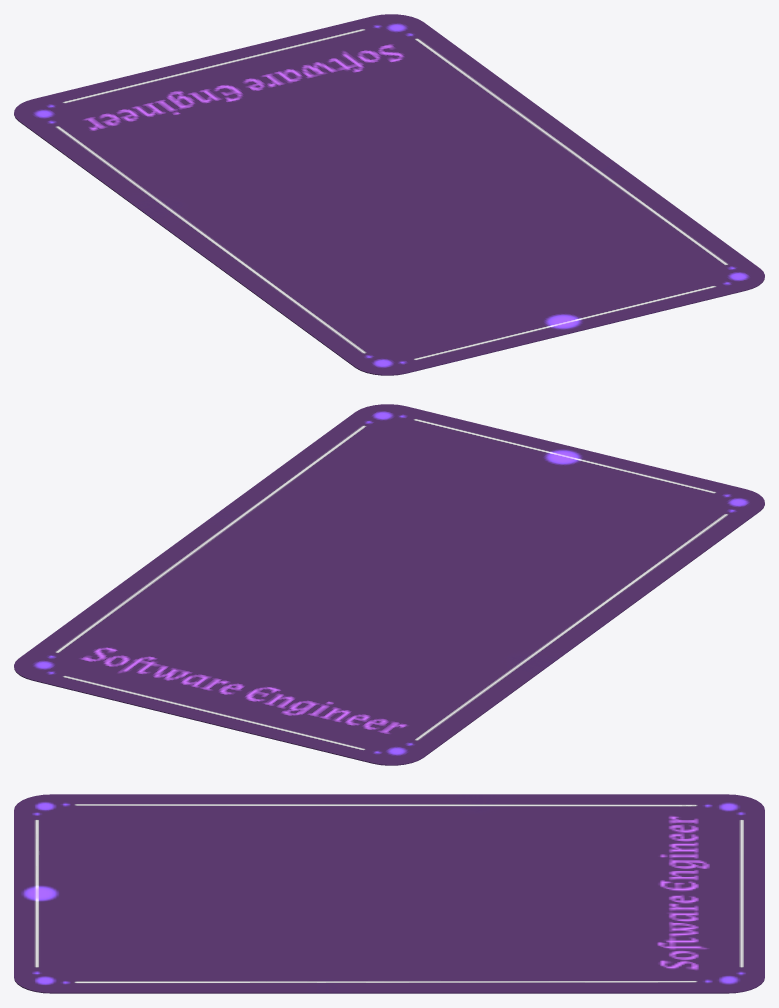
File: SoftwareEngineerTexture.fbx
The picture shows the model from 3 angles, top to bottom: view 1: azimuth 30°, elevation 25°; view 2: azimuth 150°, elevation 25°; view 3: azimuth 270°, elevation 25°; orthographic projection.
Visible parts, largest first — view 1: SoftwareEngineer; view 2: SoftwareEngineer; view 3: SoftwareEngineer.
Boxes of the visible parts, left/top/right/bottom form: SoftwareEngineer: left=14, top=14, right=764, bottom=375; SoftwareEngineer: left=14, top=404, right=764, bottom=765; SoftwareEngineer: left=14, top=794, right=764, bottom=993.
Bounding box in the file's own units: 12.5 × 0.024 × 20.
Materials: 1 (1 with a texture image).
